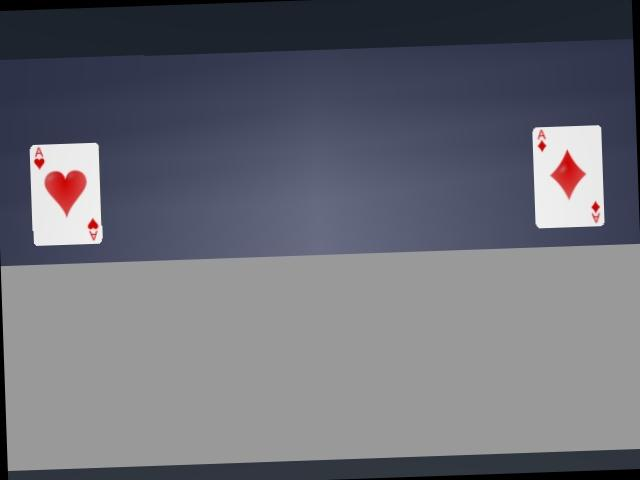diamond: (532, 125, 604, 227)
heart: (30, 143, 102, 245)
